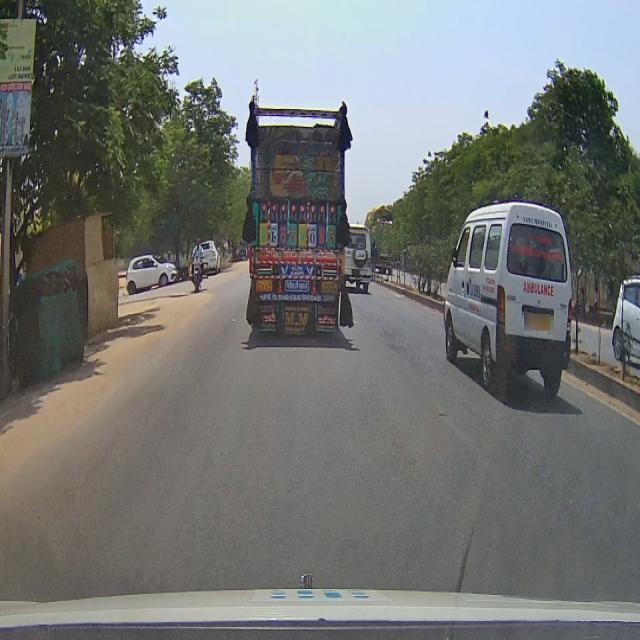car ahead at: (442, 190, 577, 387)
truck ahead at: (240, 105, 350, 338)
